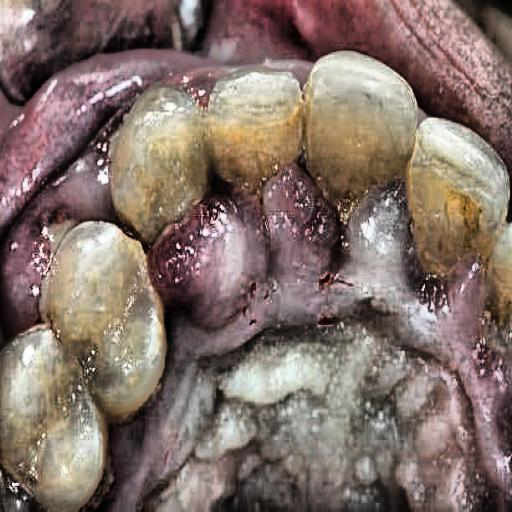Gingivitis: (155, 182, 473, 371), (6, 112, 112, 275)
